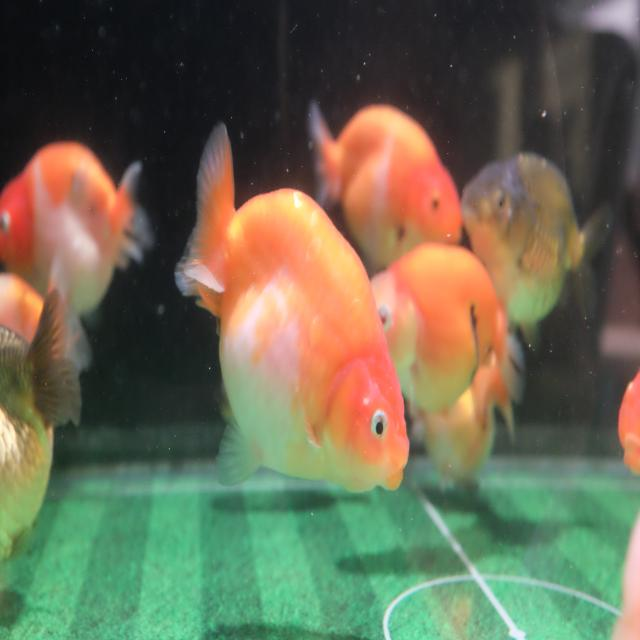Tilapia: (173, 118, 408, 494), (460, 156, 616, 349), (0, 141, 156, 318), (307, 97, 463, 272), (370, 244, 527, 416), (0, 289, 84, 567)
